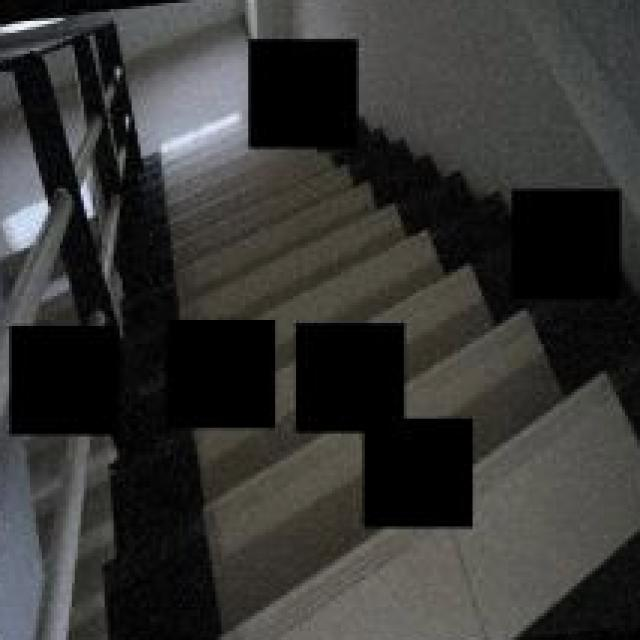downstair: (163, 163, 450, 312)
